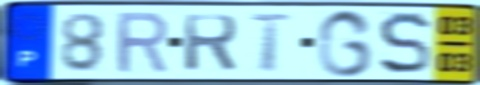8: (57, 12, 110, 74)
G: (314, 7, 375, 79)
R: (113, 10, 171, 76), (181, 12, 241, 74)
S: (376, 9, 433, 77)
T: (246, 11, 297, 74)
